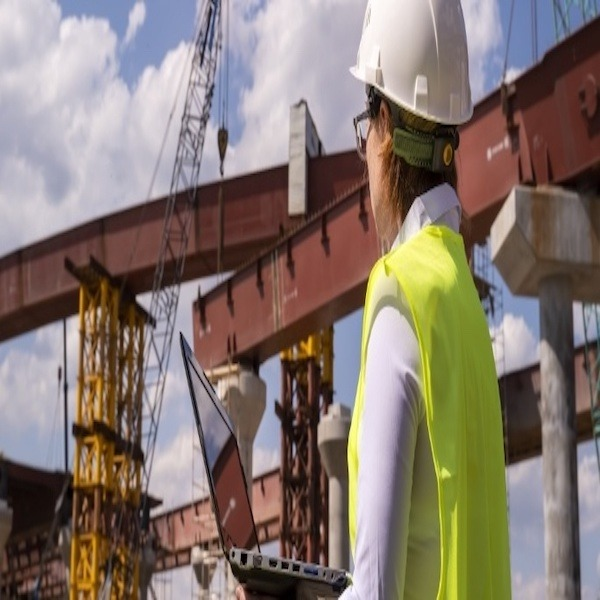helmet: (353, 1, 483, 125)
vest: (352, 229, 510, 597)
